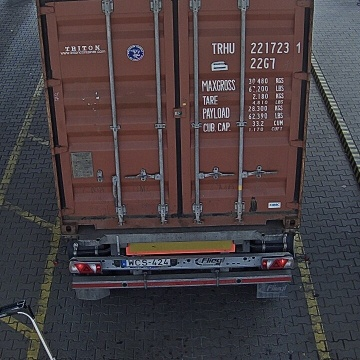serial_id: (212, 42, 301, 54)
